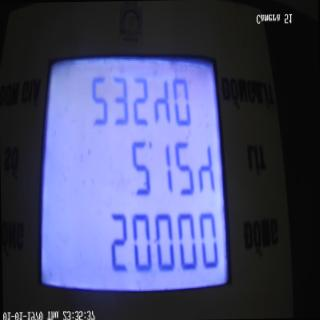screen: (29, 24, 235, 318)
